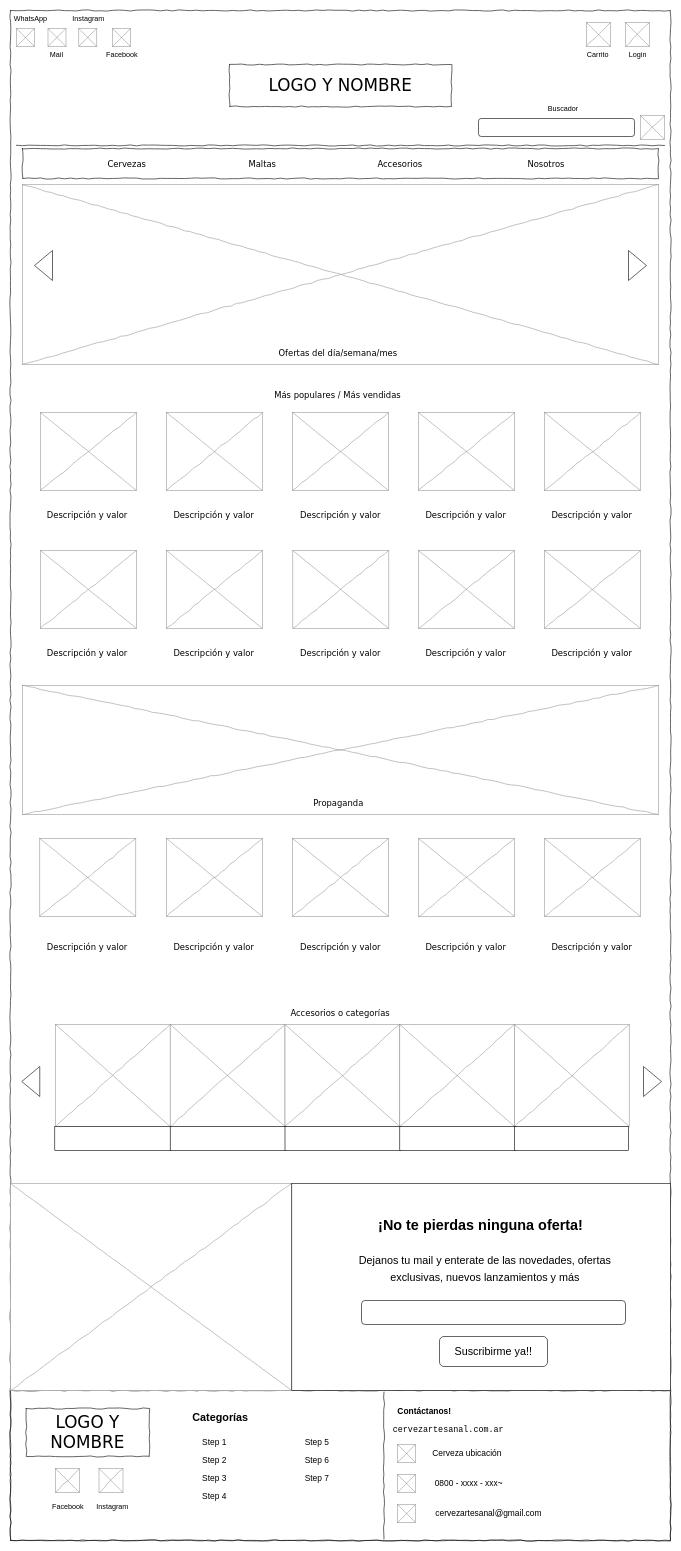
This 681x1551 diagram has some shape labels left out. The shapes that lost their labels are listed below. From the top down, each one's centre as x and y in pixels, then its label:
the point at 556,127: Buscar...
the point at 493,1312: Email...
